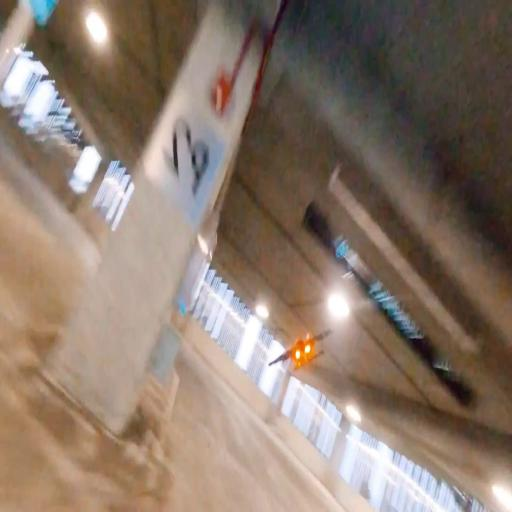uav: (268, 324, 338, 378)
